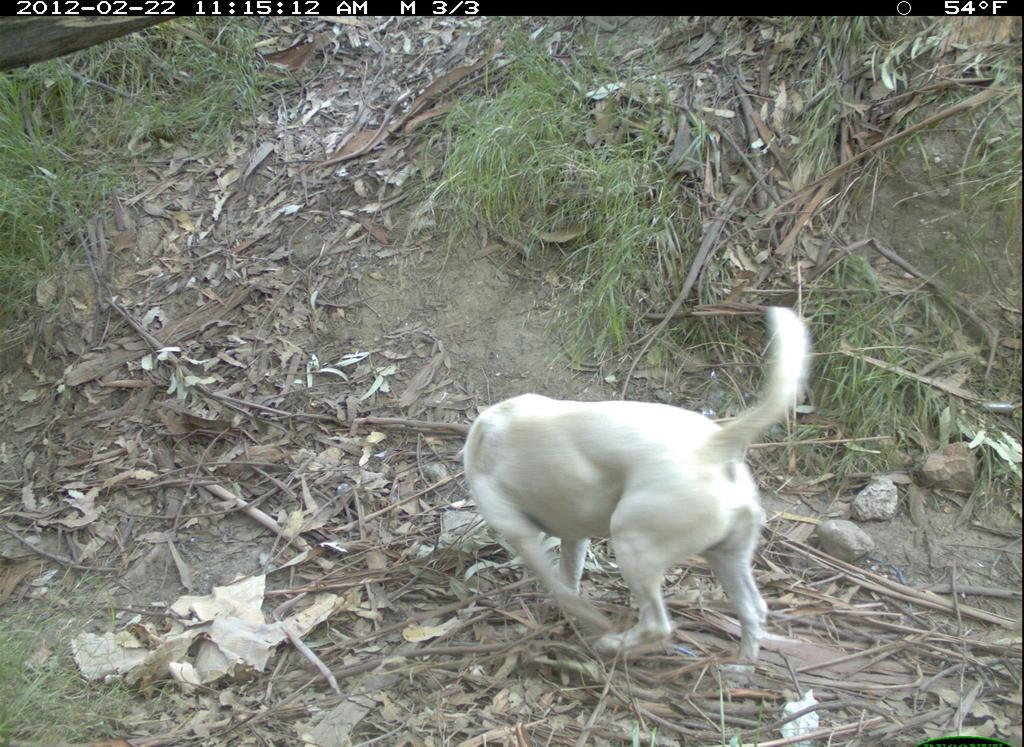dog: (459, 300, 811, 693)
